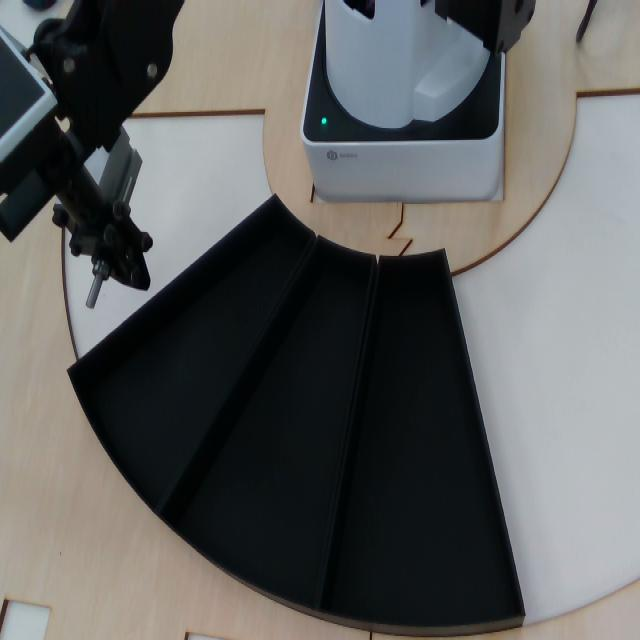box: (145, 218, 478, 627), (15, 133, 322, 531), (335, 251, 534, 619)
